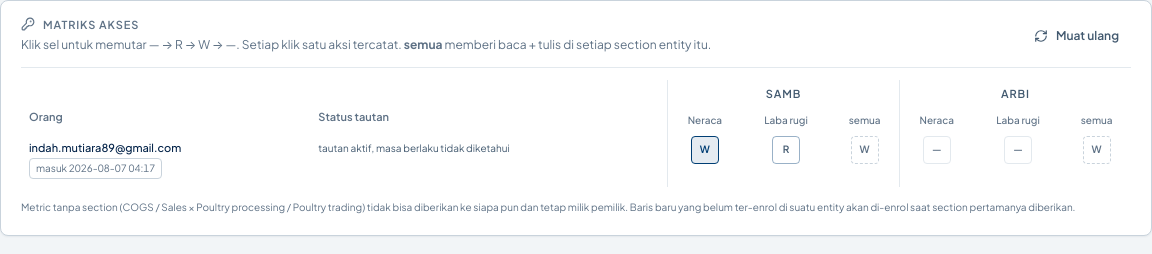
Scenario: a click is one audited call, applied before the answer › — → R sends grant-scope read for that one section and shows R at once
The image size is (1152, 254).
Expected: the text "indah.mutiara89@gmail.com" is shown, [29,140,181,154]
Click the 1st button "—": (937, 150) [923,136,951,164]
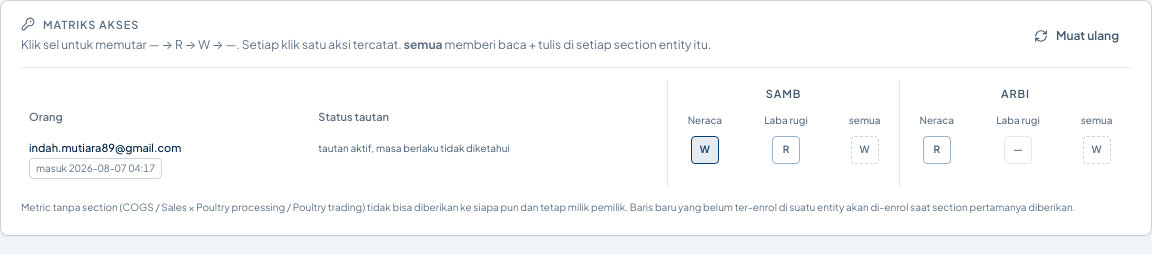
Now the 2nd button "R" is shown, box [923,136,951,164]
